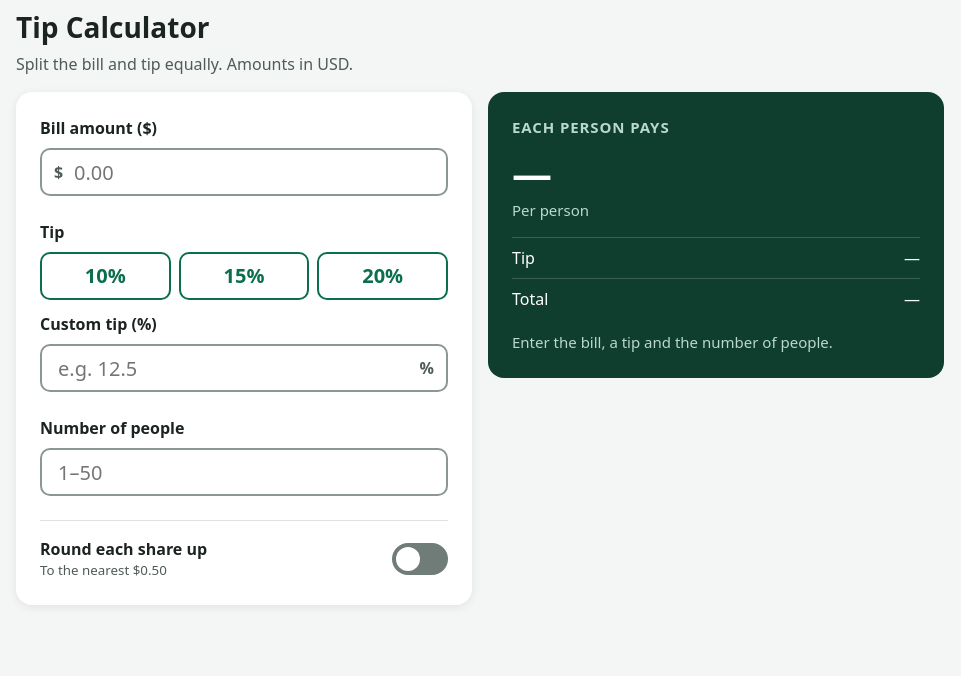
Test: S2: Choose the tip percentage › custom 101 shows the valid-range message
The image size is (961, 676).
In the field labelled "Custom tip (%)": {"x": 244, "y": 368} [40,344,448,392], type "101"
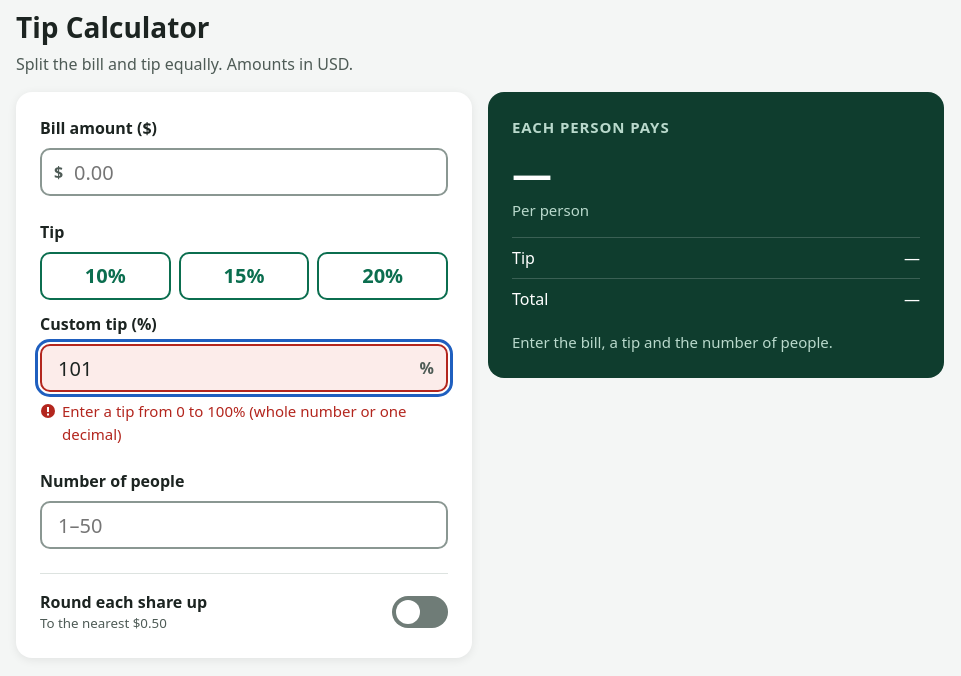
Expected: the element showing "Enter a tip from 0 to 100% (whole number or one decimal)" is shown, [40,400,448,445]
